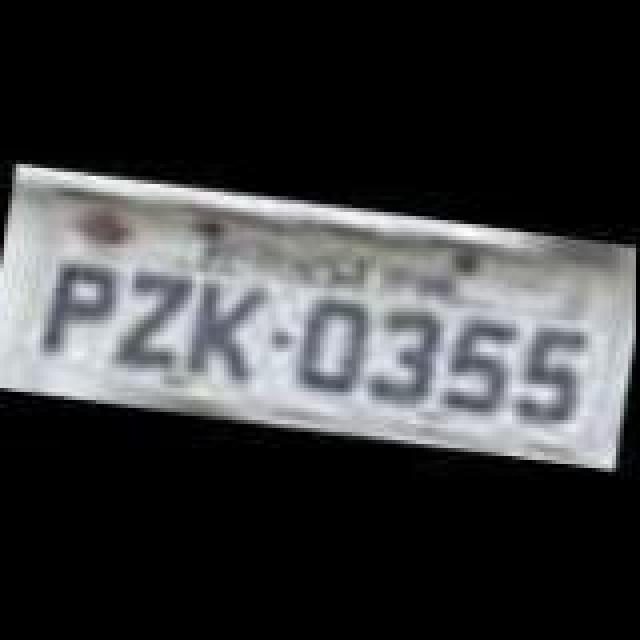3: (366, 306, 450, 410)
5: (444, 312, 524, 420), (518, 322, 594, 430)
K: (188, 280, 268, 388)
O: (292, 292, 372, 400)
P: (38, 256, 114, 368)
Z: (118, 270, 194, 378)
